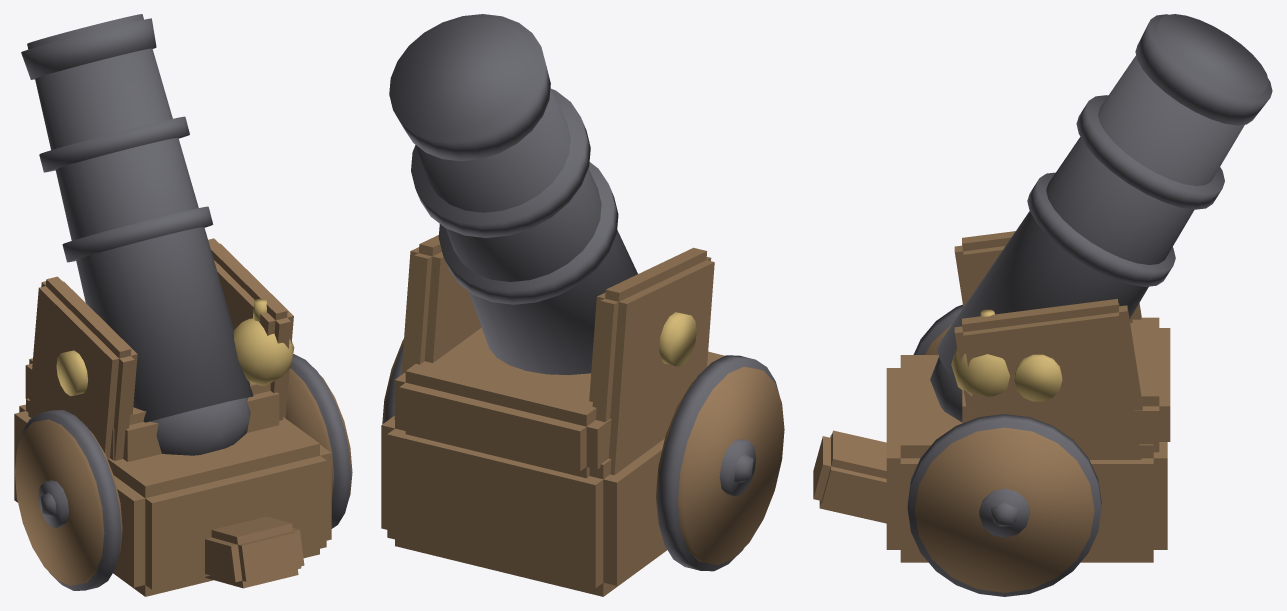
File: mortar.glb
The picture shows the model from 3 angles, left to right: view 1: azimuth 30°, elevation 25°; view 2: azimuth 150°, elevation 25°; view 3: azimuth 270°, elevation 25°; orthographic projection. The views are drawn at different scales.
Parts seen in each view (by area): view 1: iron, wood, brass; view 2: wood, iron, brass; view 3: wood, iron, brass.
Boxes of the visible parts, x1,y1,x2,y2 form: iron: (19, 14, 351, 590); wood: (14, 238, 352, 596); brass: (56, 298, 294, 396); wood: (381, 235, 784, 596); iron: (384, 14, 779, 571); brass: (659, 312, 696, 366); wood: (813, 231, 1170, 592); iron: (907, 14, 1272, 596); brass: (951, 309, 1062, 401).
Bounding box in the file's own units: 1.23 × 2 × 1.63.
